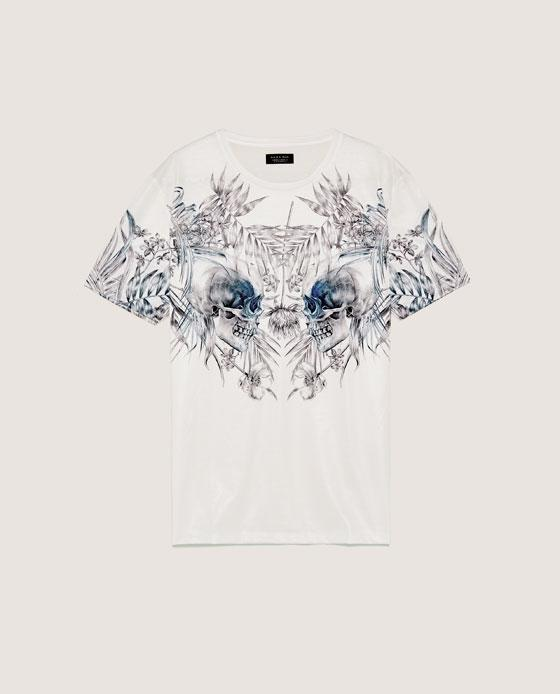teeshirt: (74, 126, 476, 574)
